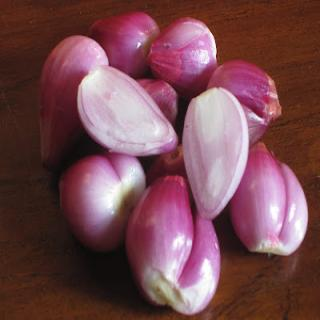Bawang Merah: (39, 11, 310, 317)
